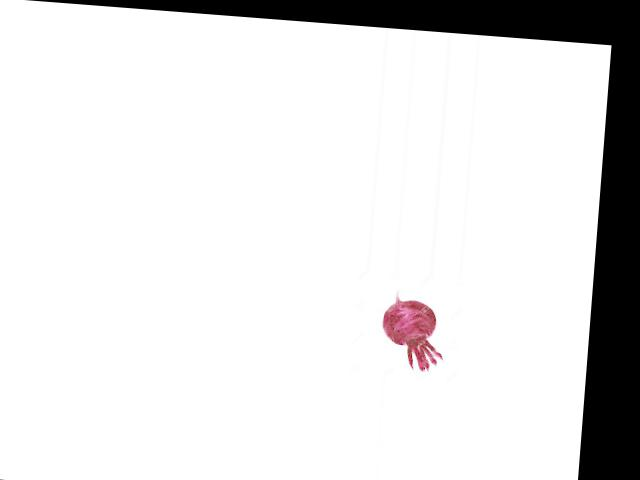beet: (378, 288, 447, 372)
